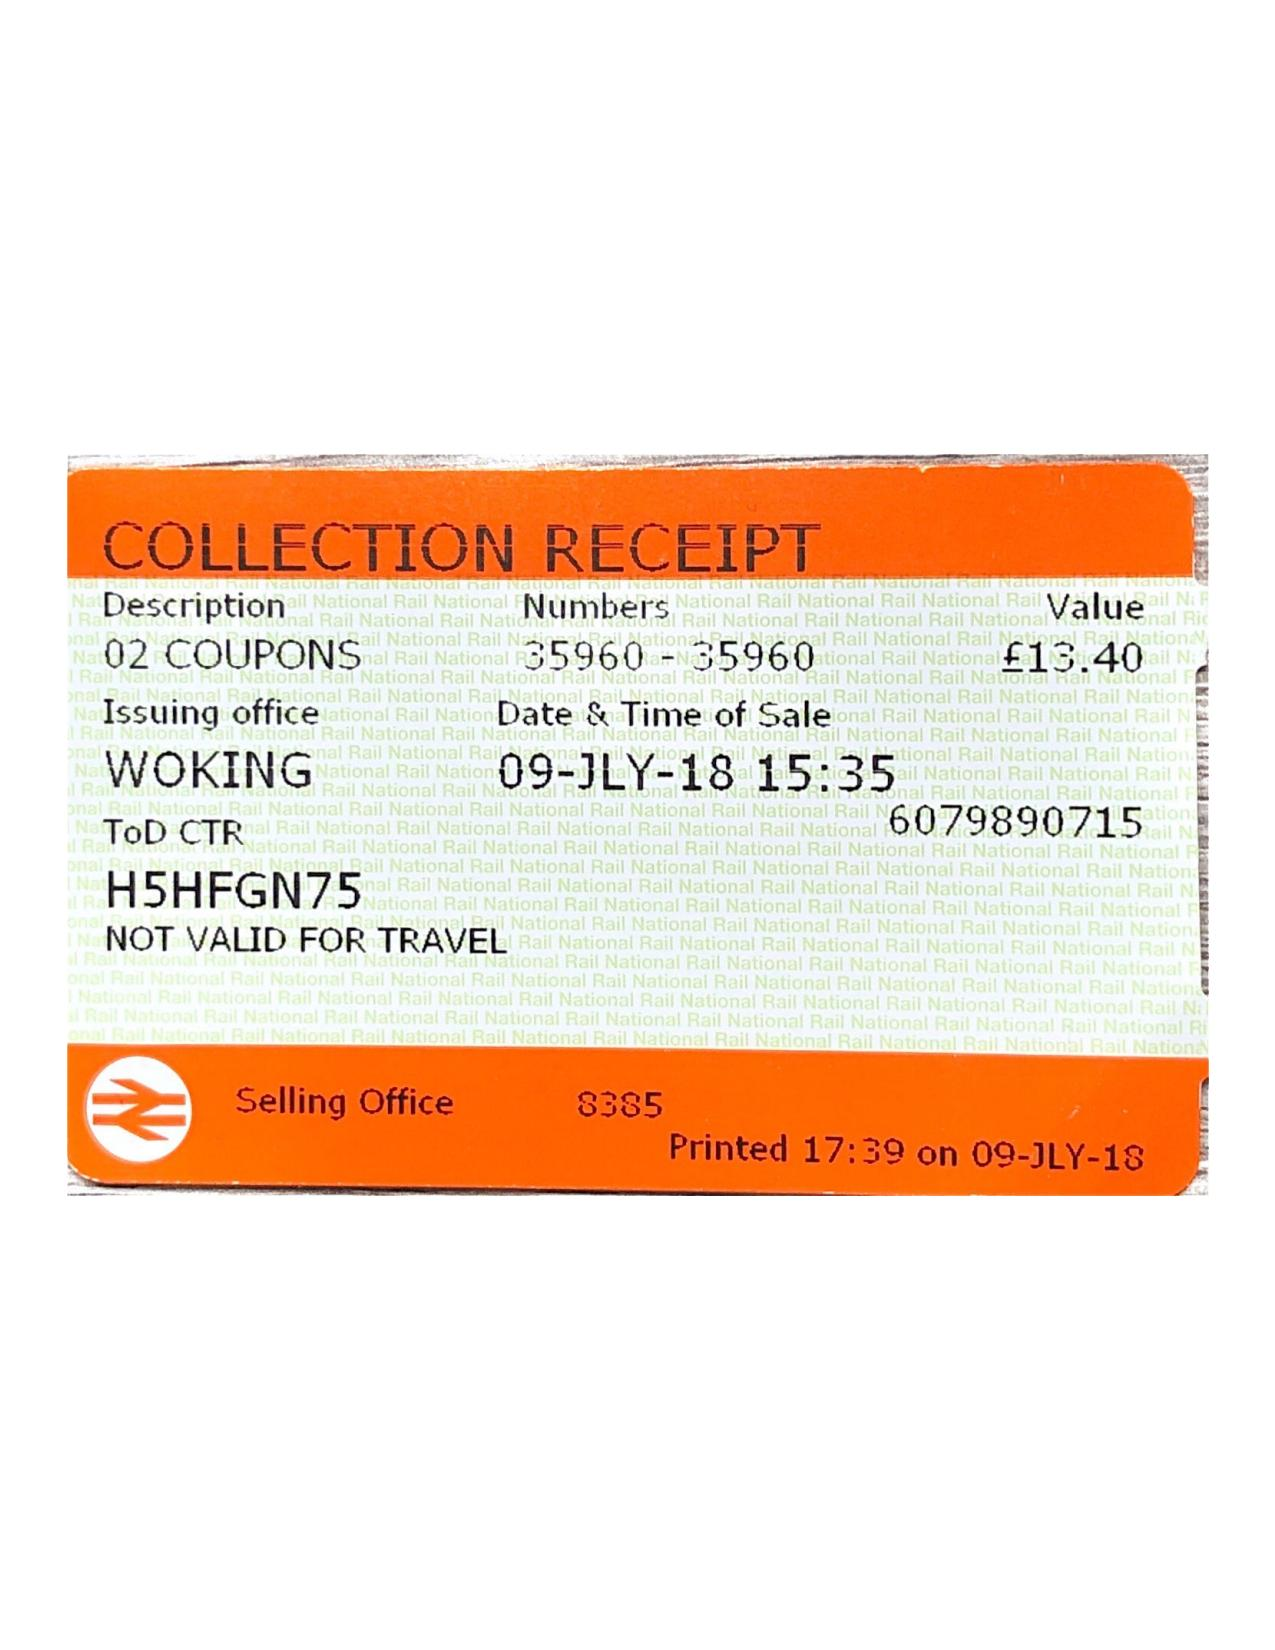Amount: (984, 623, 1179, 692)
Date: (459, 734, 751, 813)
company_name: (90, 737, 340, 808)
